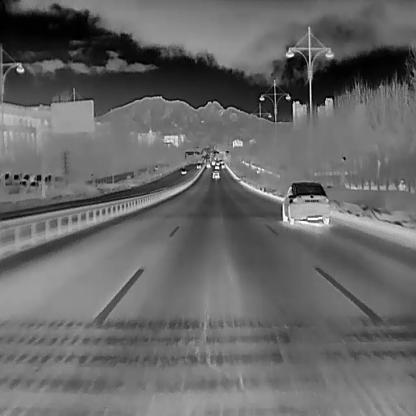car: (280, 181, 329, 224), (211, 170, 219, 179), (180, 167, 187, 174), (204, 162, 210, 168), (218, 158, 223, 164), (214, 164, 220, 169), (196, 162, 200, 168), (211, 159, 215, 165), (215, 160, 219, 164), (221, 164, 225, 168)
